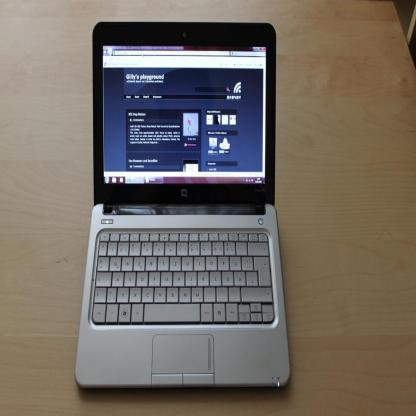board: (72, 17, 289, 391)
